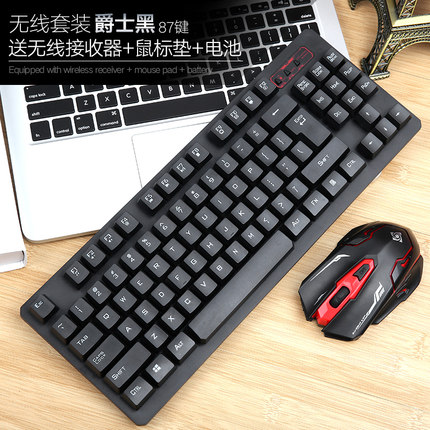keyboard: (20, 30, 421, 424)
mouse: (298, 220, 425, 342)
